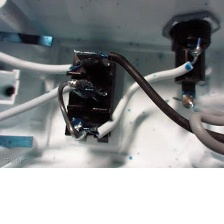three_eye_plug: (0, 0, 224, 178)
